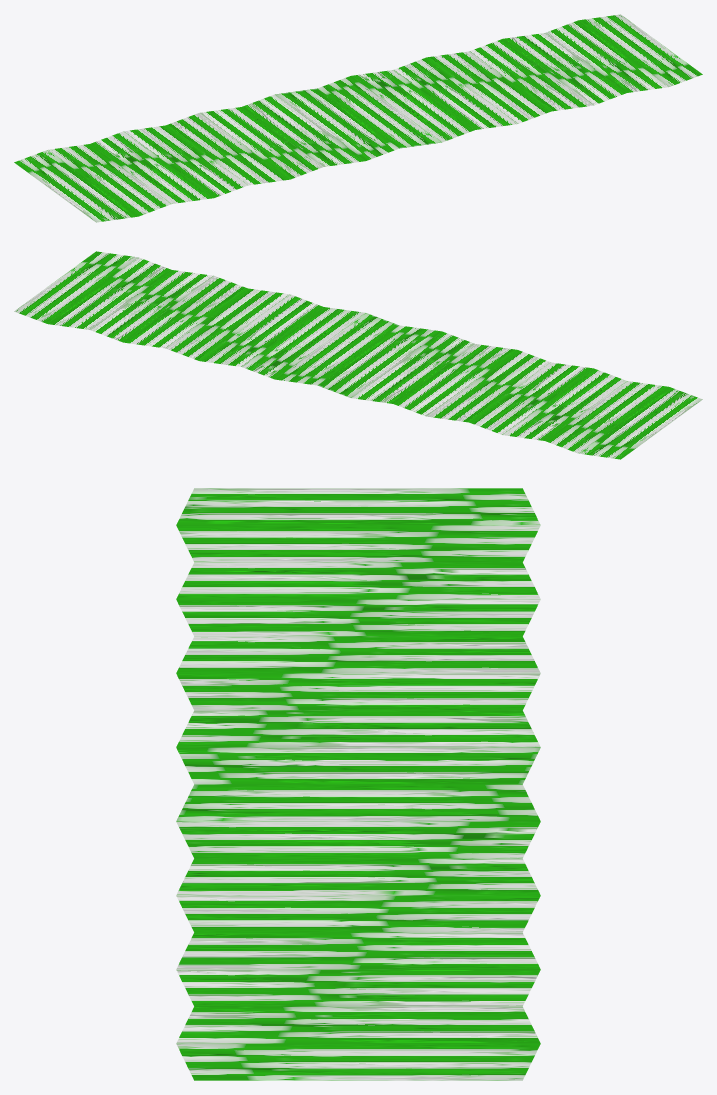
File: checkpointfinishline 1.FBX
The picture shows the model from 3 angles, top to bottom: view 1: azimuth 30°, elevation 25°; view 2: azimuth 150°, elevation 25°; view 3: azimuth 270°, elevation 25°; orthographic projection. The views are drawn at different scales.
Parts seen in each view (by area): view 1: Plane061; view 2: Plane061; view 3: Plane061.
Part boxes in pixels (left/top/right/bottom): Plane061: left=14, top=14, right=702, bottom=222; Plane061: left=14, top=251, right=702, bottom=459; Plane061: left=176, top=488, right=540, bottom=1080.
Size of the model in its own units: 400 by 6.37e-15 by 104.
